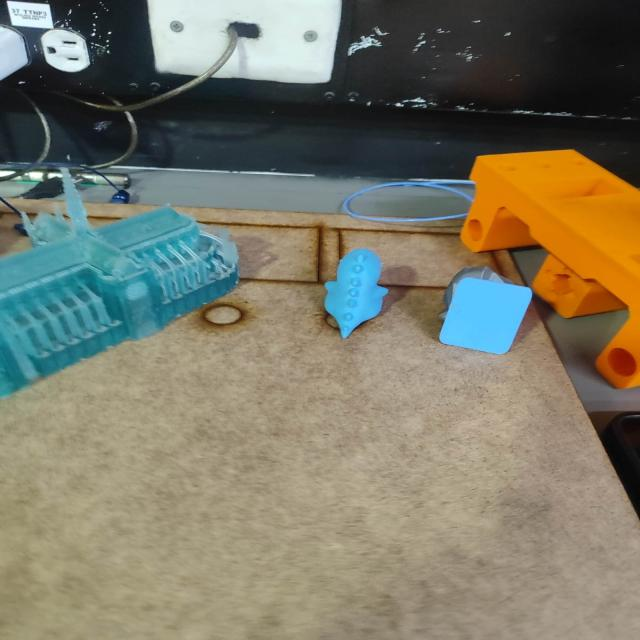DINO: (320, 242, 400, 340)
